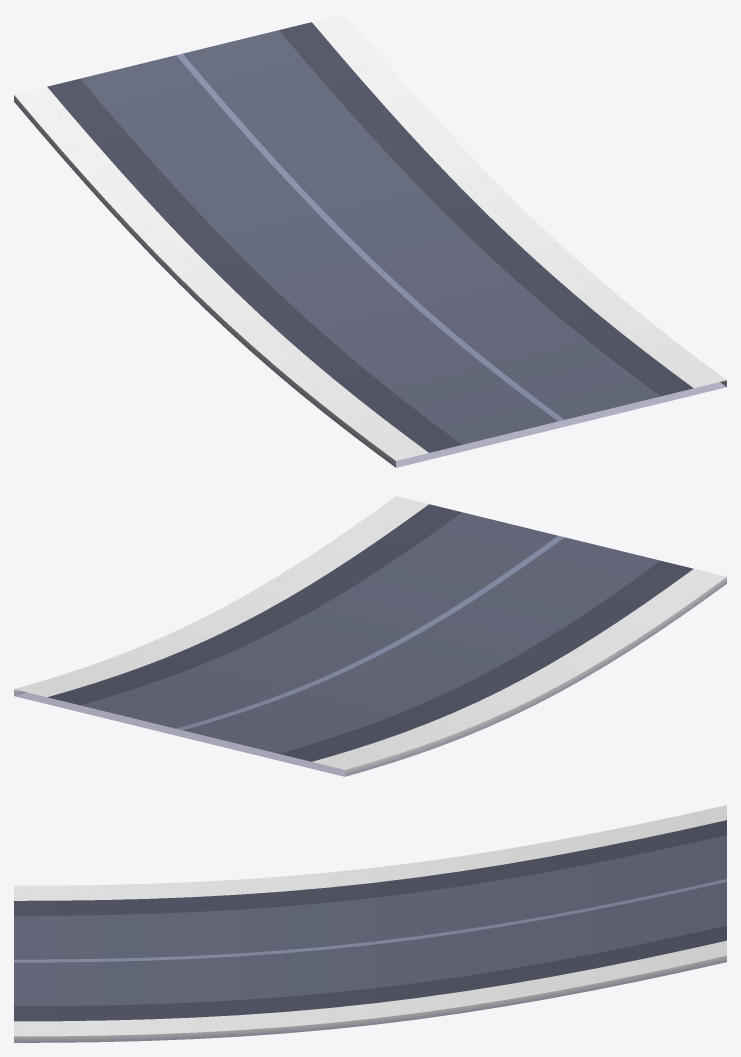
File: road-Straight-Flat-BiSlopeUp-Up1-Center-Size2.glb
3 renders of one model, top to bottom at view 1: azimuth 30°, elevation 25°; view 2: azimuth 150°, elevation 25°; view 3: azimuth 270°, elevation 25°, orthographic. The views are drawn at different scales.
Parts seen in each view (by area): view 1: road-Straight-Flat-BiSlopeUp-Up1-Center-Size2; view 2: road-Straight-Flat-BiSlopeUp-Up1-Center-Size2; view 3: road-Straight-Flat-BiSlopeUp-Up1-Center-Size2.
Boxes of the visible parts, x1,y1,x2,y2 form: road-Straight-Flat-BiSlopeUp-Up1-Center-Size2: [14, 14, 726, 467]; road-Straight-Flat-BiSlopeUp-Up1-Center-Size2: [14, 496, 726, 776]; road-Straight-Flat-BiSlopeUp-Up1-Center-Size2: [14, 805, 726, 1042].
Bounding box in the file's own units: 1 × 0.27 × 2.
1 material, 1 textured.
